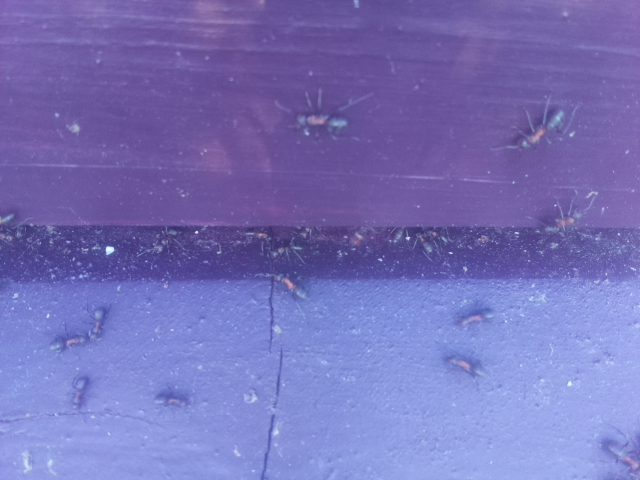ant: (510, 88, 573, 165), (287, 98, 360, 142), (68, 298, 118, 356), (253, 269, 313, 305), (598, 433, 640, 480), (46, 331, 91, 357), (69, 372, 90, 413)
